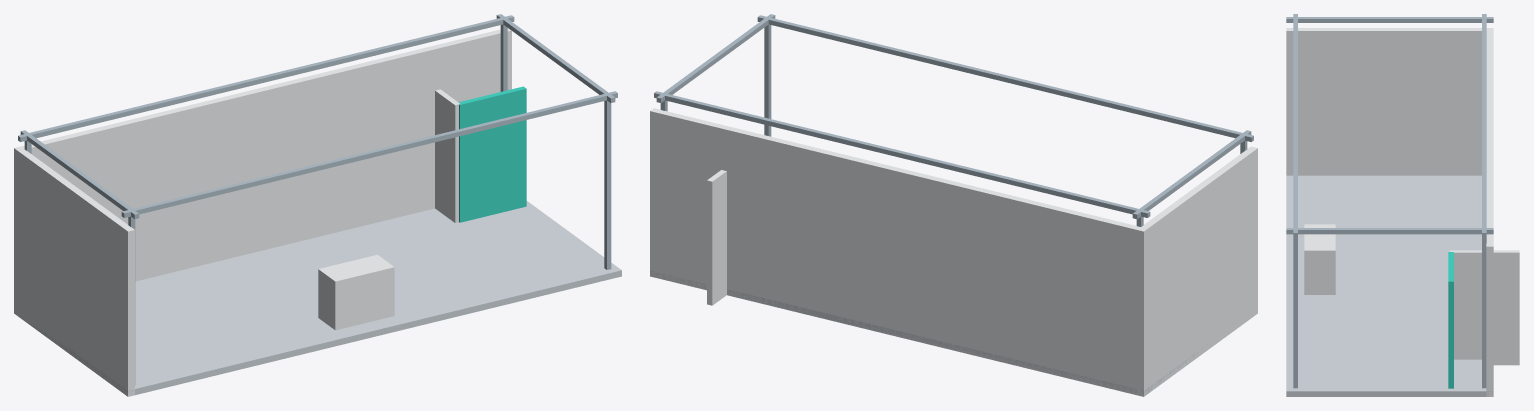
3 renders of one model, left to right at view 1: azimuth 30°, elevation 25°; view 2: azimuth 150°, elevation 25°; view 3: azimuth 270°, elevation 25°, orthographic. The views are drawn at different scales.
Parts seen in each view (by area): view 1: Exhibition Booth Concept; view 2: Exhibition Booth Concept; view 3: Exhibition Booth Concept.
Boxes of the visible parts, x1,y1,x2,y2 form: Exhibition Booth Concept: (14,14,621,396); Exhibition Booth Concept: (650,14,1257,396); Exhibition Booth Concept: (1286,14,1519,396).
Size of the model in its own units: 10 by 3.49 by 4.51.
